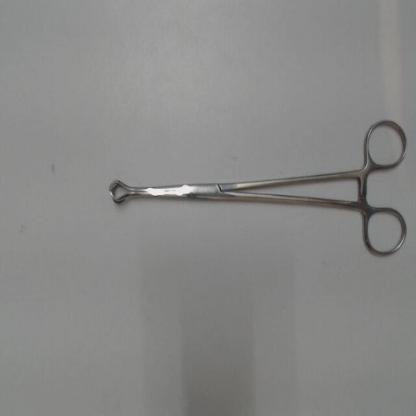8 Babcock Tissue Forceps: (102, 110, 412, 265)
